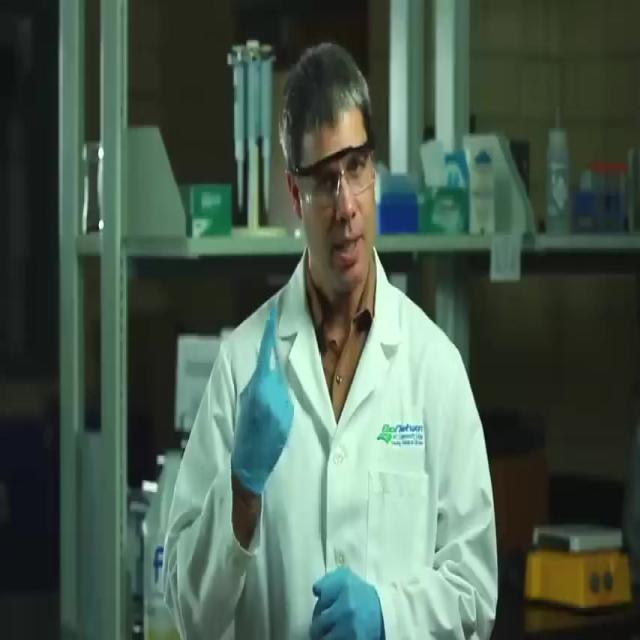googles: (293, 138, 377, 210)
labcoat: (159, 236, 497, 640)
